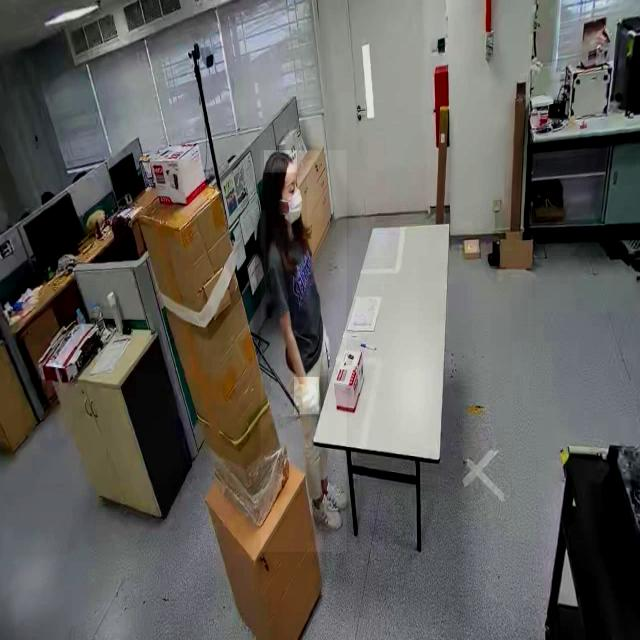face_mask: (283, 174, 307, 228)
hand_glove: (293, 377, 319, 415)
head_nohelmet: (263, 150, 297, 173)
person: (260, 150, 346, 553)
shoes: (311, 493, 342, 535), (317, 470, 350, 508)
